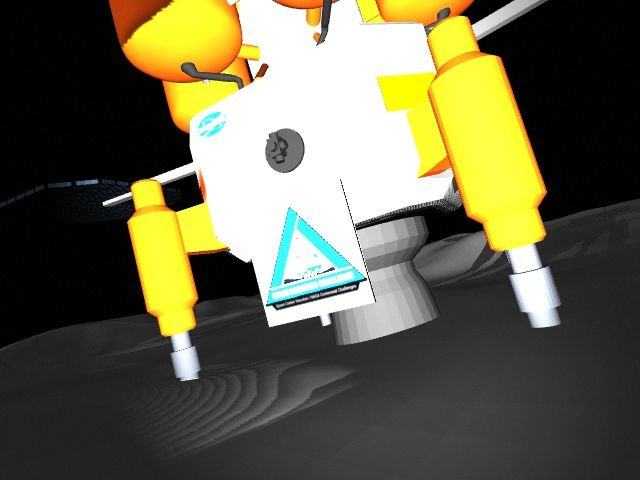basemarker: (266, 206, 368, 312)
